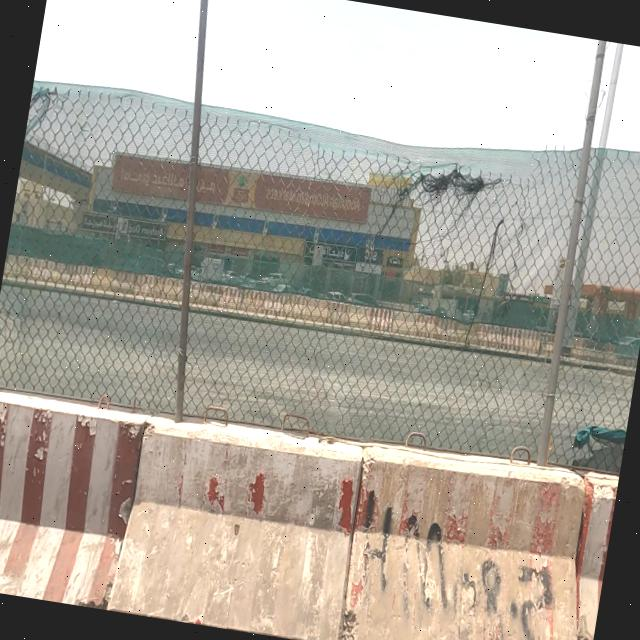Graffiti: (349, 489, 575, 640)
